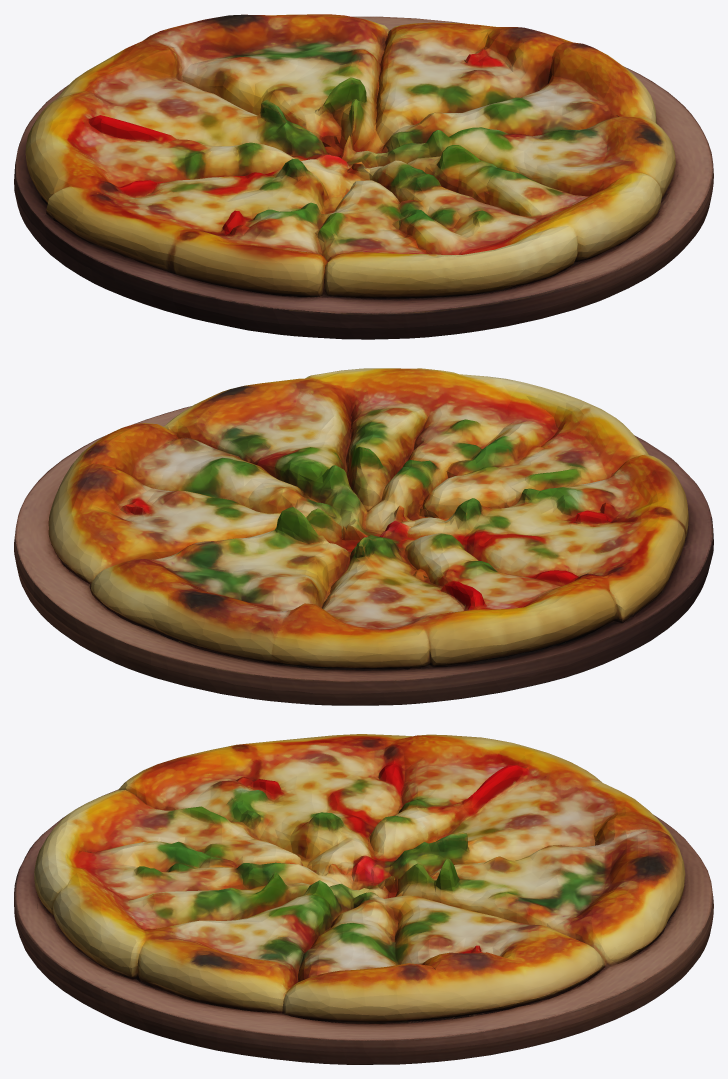
Rendered from pizza.glb.
3 views of the same model, one above another, from view 1: azimuth 30°, elevation 25°; view 2: azimuth 150°, elevation 25°; view 3: azimuth 270°, elevation 25° (orthographic).
Parts seen in each view (by area): view 1: world; view 2: world; view 3: world.
Boxes of the visible parts, x1,y1,x2,y2 form: world: (14, 14, 713, 339); world: (14, 368, 713, 705); world: (14, 734, 713, 1064).
Bounding box in the file's own units: 0.9872 × 0.1287 × 0.9989.
Materials: 1 (1 with a texture image).
